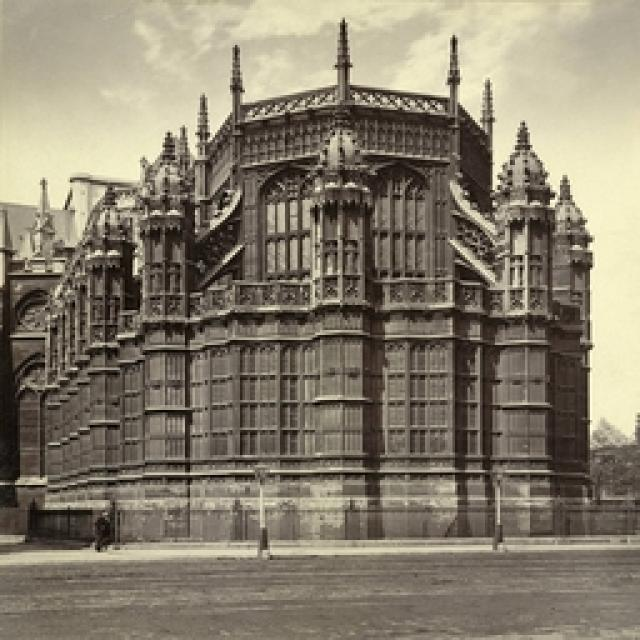Abbey: (146, 59, 562, 487)
